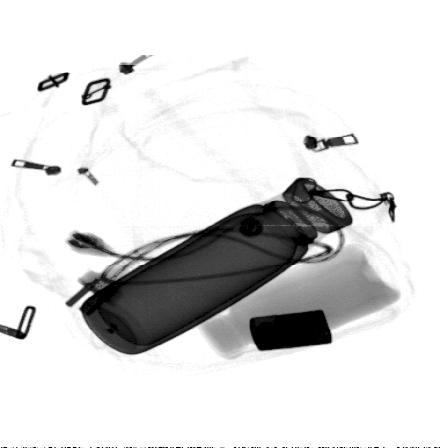Lighter: (249, 308, 333, 351)
